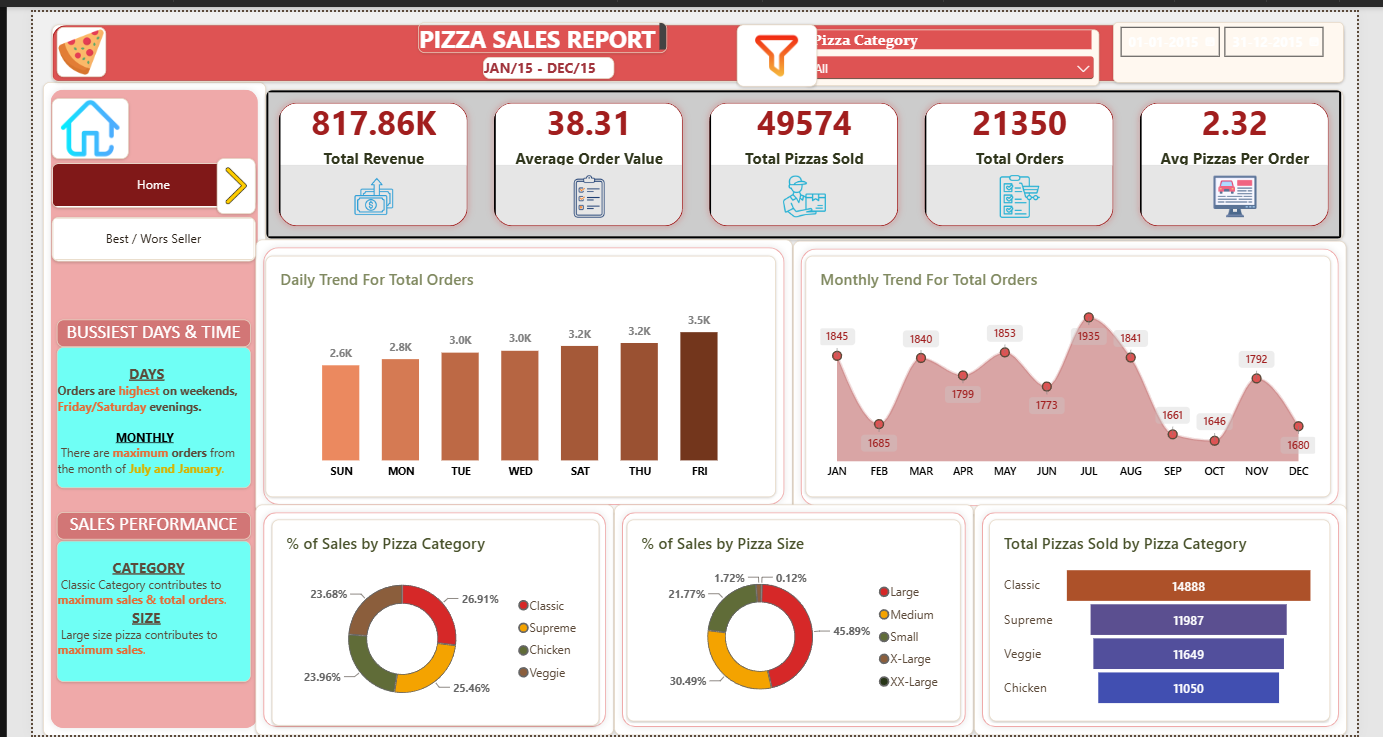

What the dashboard file says about the page in this screenshot:
{"tool":"powerbi","page":{"name":"Home","canvas":[1500,820],"ordinal":0},"visuals":[{"type":"shape","box":[11.2,78.8,252.5,741.2],"z":0},{"type":"textbox","box":[936.2,153.8,260,36.2],"z":1000},{"type":"cardVisual","fields":{"Data":["pizza_sales.Total Revenue","pizza_sales.Average Order Value","pizza_sales.Total Pizzas Sold","pizza_sales.Total Orders","pizza_sales.Avg Pizzas Per Order"]},"box":[263.8,87.5,1221.2,170],"z":2000},{"type":"shape","box":[21.2,13.8,1463.8,65],"z":3000},{"type":"textbox","box":[435.7,11.4,282.5,35],"z":4000},{"type":"textbox","box":[510,51.4,148.8,25],"z":5000},{"type":"shape","box":[252.5,257.5,608.8,310],"z":6000},{"type":"clusteredColumnChart","title":"Daily Trend For Total Orders","fields":{"Category":["pizza_sales.Order Day"],"Y":["pizza_sales.Total Orders"]},"box":[263.8,276.2,578.8,273.8],"z":7000},{"type":"shape","box":[861.2,258.8,627.5,310],"z":8000},{"type":"areaChart","title":"Monthly Trend For Total Orders","fields":{"Category":["pizza_sales.Order Month"],"Y":["pizza_sales.Total Orders"]},"box":[875,276.2,595,273.8],"z":9000},{"type":"shape","box":[252.5,558.8,406.2,261.2],"z":10000},{"type":"shape","box":[658.8,558.8,407.5,261.2],"z":11000},{"type":"shape","box":[1066.2,558.8,422.5,261.2],"z":12000},{"type":"donutChart","title":"% of Sales by Pizza Category","fields":{"Category":["pizza_sales.pizza_category"],"Y":["pizza_sales.Total Revenue"]},"box":[270,575,371.2,233.8],"z":13000},{"type":"donutChart","title":"% of Sales by Pizza Size","fields":{"Category":["pizza_sales.pizza_size"],"Y":["pizza_sales.Total Revenue"]},"box":[672.5,575,378.8,228.8],"z":14000},{"type":"textbox","box":[27.1,348.6,220,31.4],"z":15000},{"type":"textbox","box":[27.1,380,220,160],"z":16000},{"type":"funnel","title":"Total Pizzas Sold by Pizza Category","fields":{"Category":["pizza_sales.pizza_category"],"Y":["pizza_sales.Total Pizzas Sold"]},"box":[1083.8,575,386.2,228.8],"z":17000},{"type":"textbox","box":[27.1,598.6,220,160],"z":18000},{"type":"textbox","box":[27.1,567.1,220,31.4],"z":19000},{"type":"slicer","fields":{"Values":["pizza_sales.pizza_category"]},"box":[874.3,20,334.3,64.3],"z":20000},{"type":"slicer","fields":{"Values":["pizza_sales.order_date"]},"box":[1224.3,11.4,261.4,68.6],"z":21000},{"type":"pageNavigator","box":[21.4,232.9,231.4,50],"z":22000},{"type":"pageNavigator","box":[21.4,171.4,231.4,50],"z":23000},{"type":"image","box":[208.6,165.7,44.3,62.9],"z":24000},{"type":"image","box":[27.1,17.1,55.7,57.1],"z":25000},{"type":"image","box":[21.4,97.1,87.1,68.6],"z":26000},{"type":"image","box":[797.1,14.3,91.4,70],"z":27000}]}

Visuals, with their boxes on the page's 1500x820 design canvas (x1, y1, x2, y2). These are canvas units, not pixel positions in the 1383x737 screenshot, which may show the page scaled, cropped or inside an application window:
shape: [11,79,264,820]
textbox: [936,154,1196,190]
cardVisual - pizza_sales.Total Revenue x pizza_sales.Average Order Value: [264,88,1485,258]
shape: [21,14,1485,79]
textbox: [436,11,718,46]
textbox: [510,51,659,76]
shape: [252,258,861,568]
"Daily Trend For Total Orders" clusteredColumnChart: [264,276,843,550]
shape: [861,259,1489,569]
"Monthly Trend For Total Orders" areaChart: [875,276,1470,550]
shape: [252,559,659,820]
shape: [659,559,1066,820]
shape: [1066,559,1489,820]
"% of Sales by Pizza Category" donutChart: [270,575,641,809]
"% of Sales by Pizza Size" donutChart: [672,575,1051,804]
textbox: [27,349,247,380]
textbox: [27,380,247,540]
"Total Pizzas Sold by Pizza Category" funnel: [1084,575,1470,804]
textbox: [27,599,247,759]
textbox: [27,567,247,598]
slicer - pizza_sales.pizza_category: [874,20,1209,84]
slicer - pizza_sales.order_date: [1224,11,1486,80]
pageNavigator: [21,233,253,283]
pageNavigator: [21,171,253,221]
image: [209,166,253,229]
image: [27,17,83,74]
image: [21,97,108,166]
image: [797,14,888,84]
